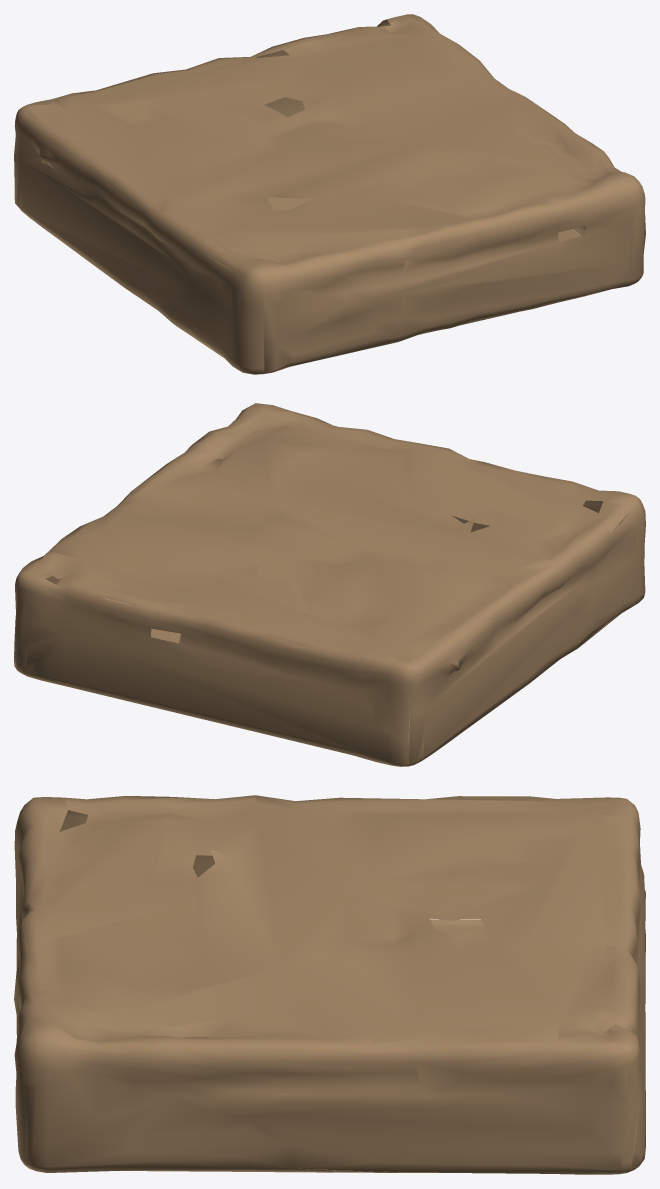
File: baldosa_de_tierra_y_piedras.glb
3 renders of one model, top to bottom at view 1: azimuth 30°, elevation 25°; view 2: azimuth 150°, elevation 25°; view 3: azimuth 270°, elevation 25°, orthographic. The views are drawn at different scales.
Parts seen in each view (by area): view 1: baldosa_de_tierra_y_piedras; view 2: baldosa_de_tierra_y_piedras; view 3: baldosa_de_tierra_y_piedras.
Part boxes in pixels (x1,y1,x2,y2): baldosa_de_tierra_y_piedras: (14, 14, 645, 374); baldosa_de_tierra_y_piedras: (14, 403, 645, 766); baldosa_de_tierra_y_piedras: (14, 795, 645, 1174).
Size of the model in its own units: 1.17 by 0.2882 by 1.2.
Materials: 1 (1 with a texture image).
